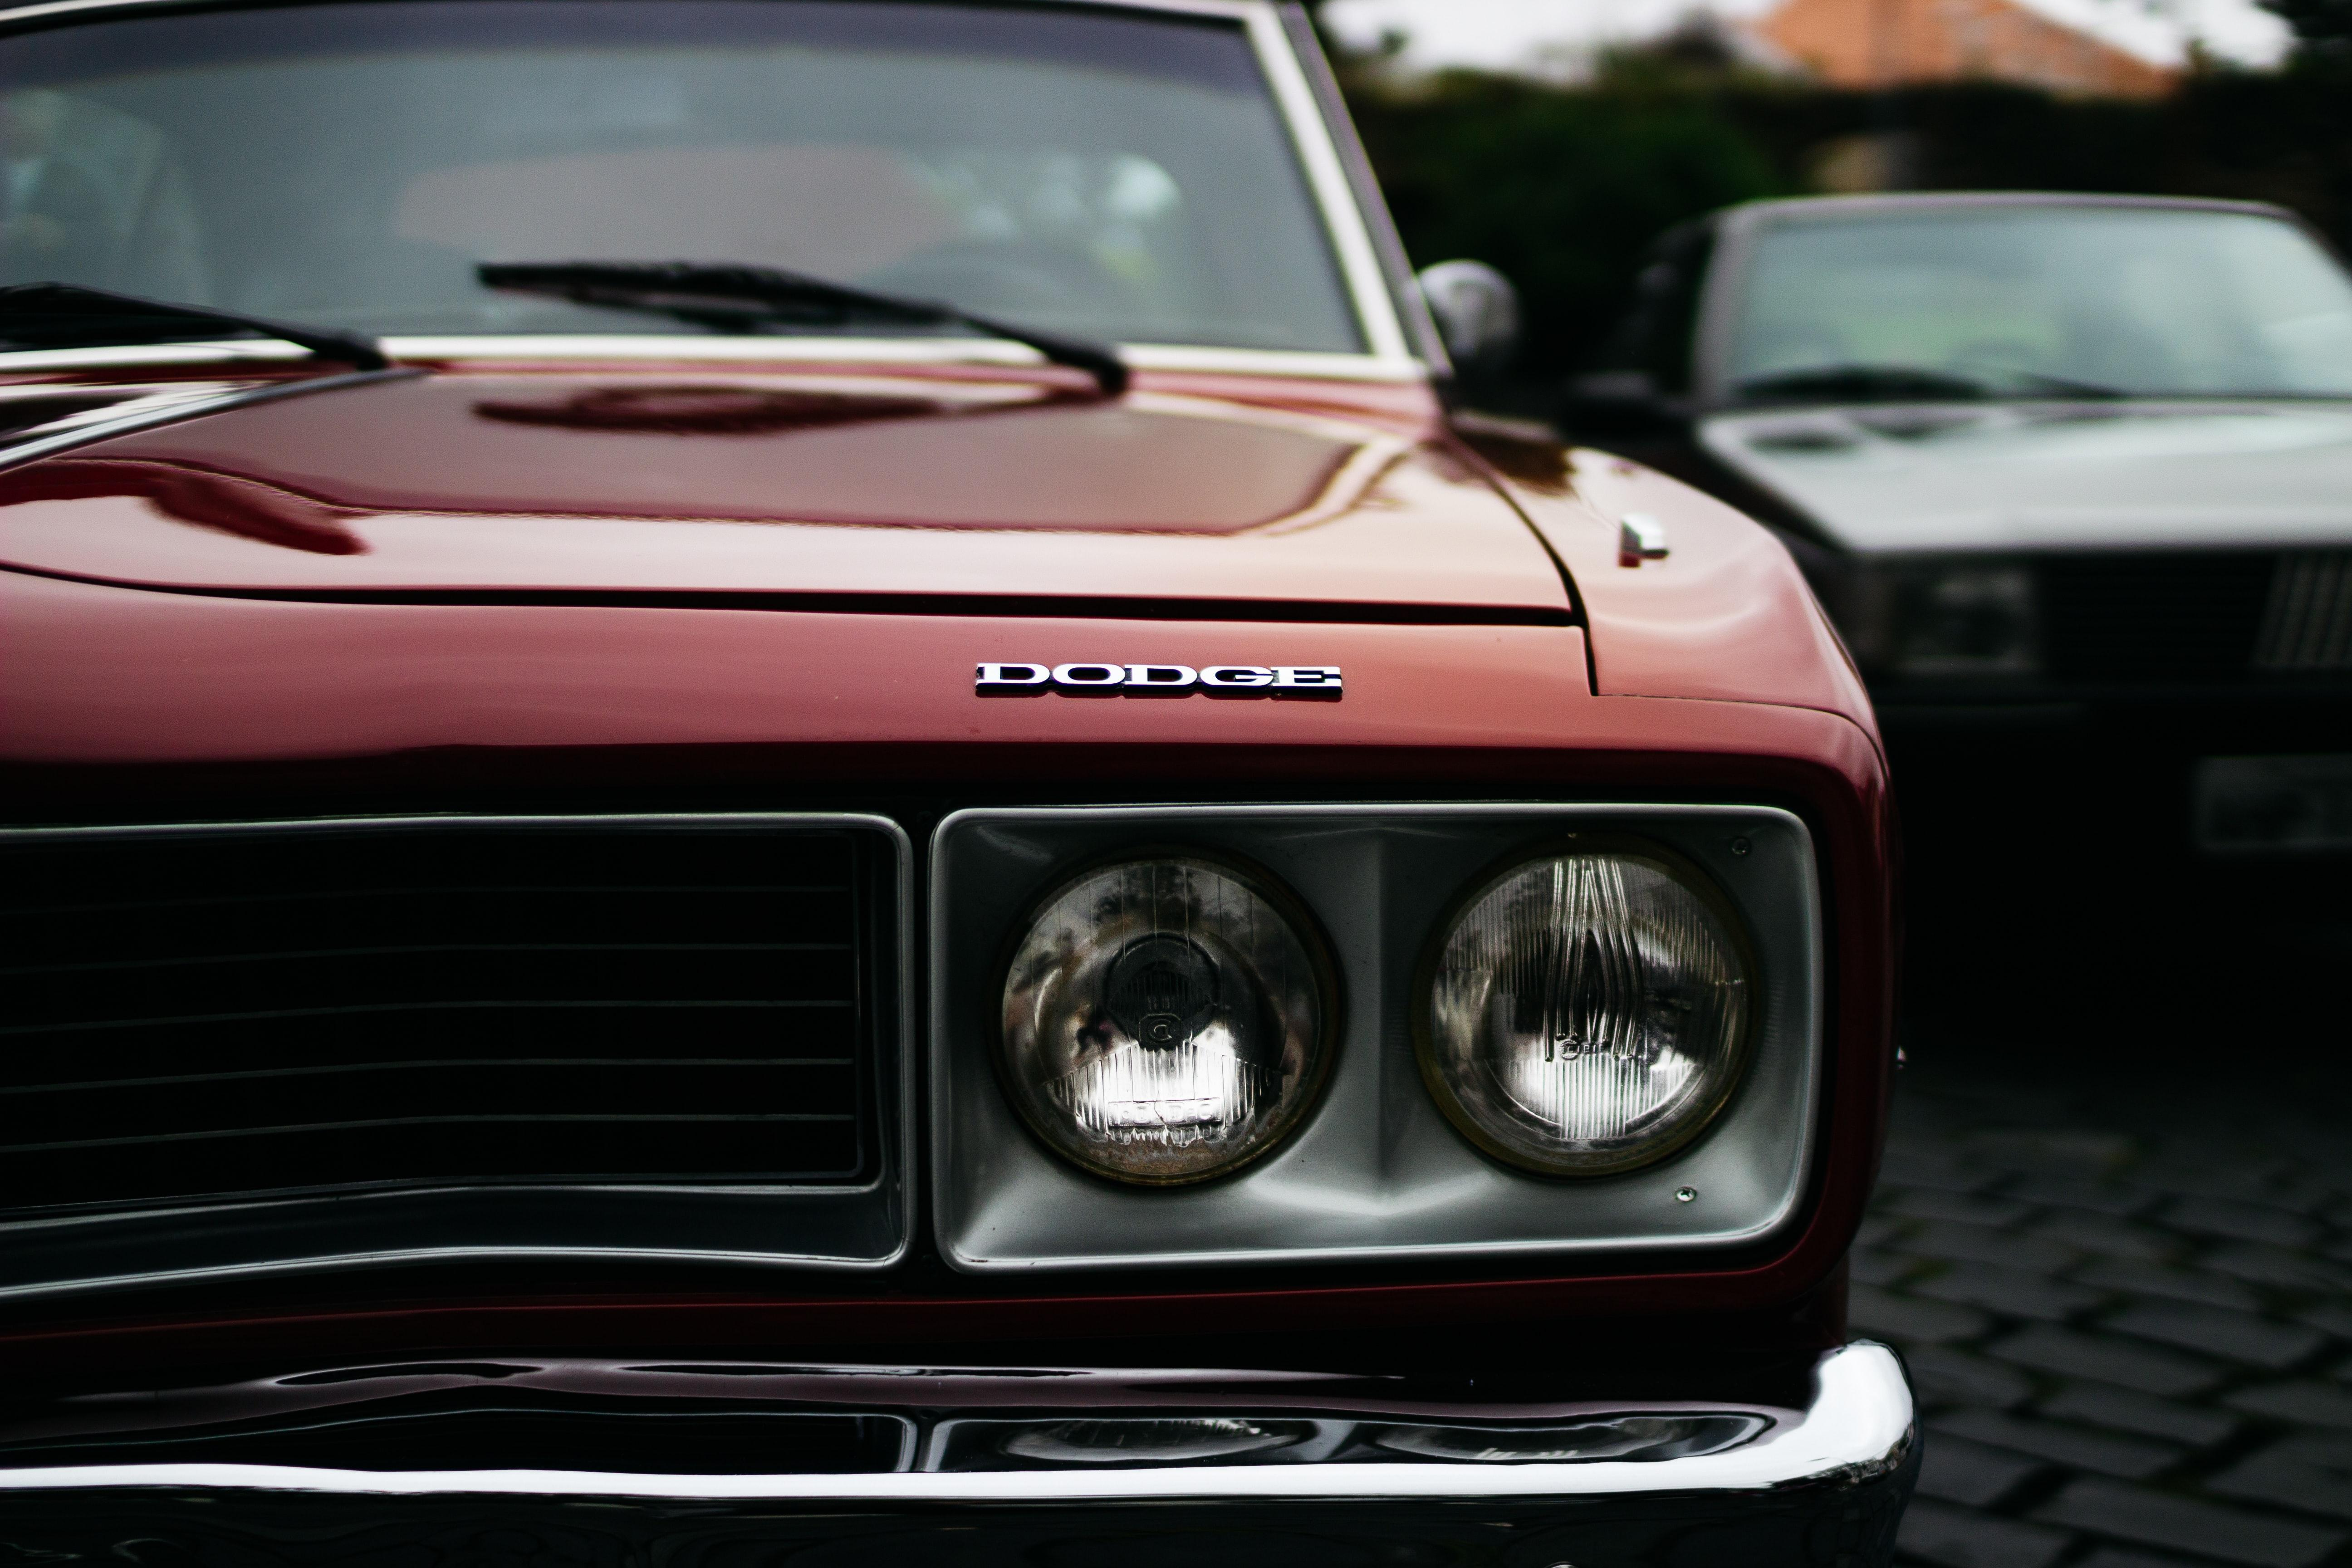dodge: (914, 609, 1384, 745)
